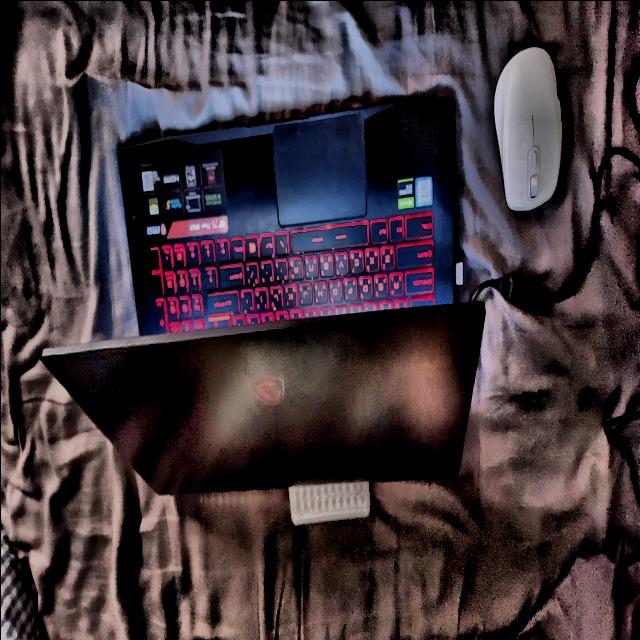Laptop: (41, 96, 484, 493)
MOUSE: (493, 47, 561, 210)
